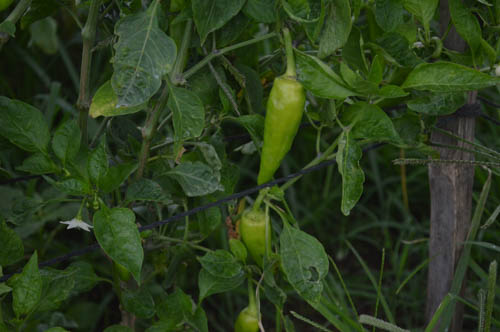ChiliPepper: (256, 75, 305, 182), (236, 213, 273, 264)
